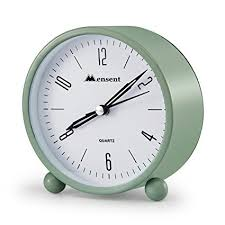alarm_clock: (19, 25, 205, 201)
